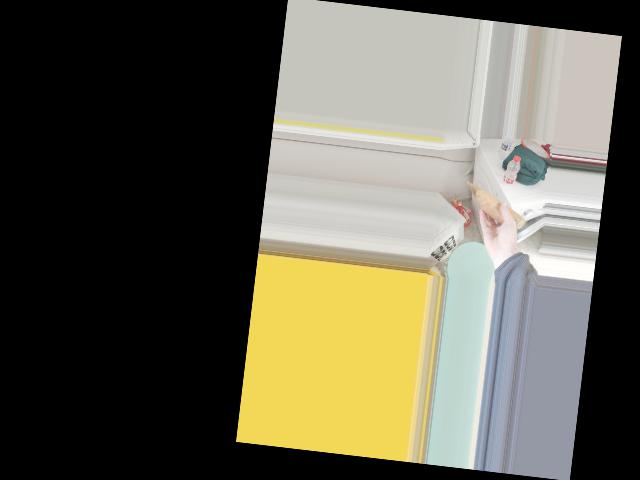sweet_potato: (477, 188, 514, 224)
